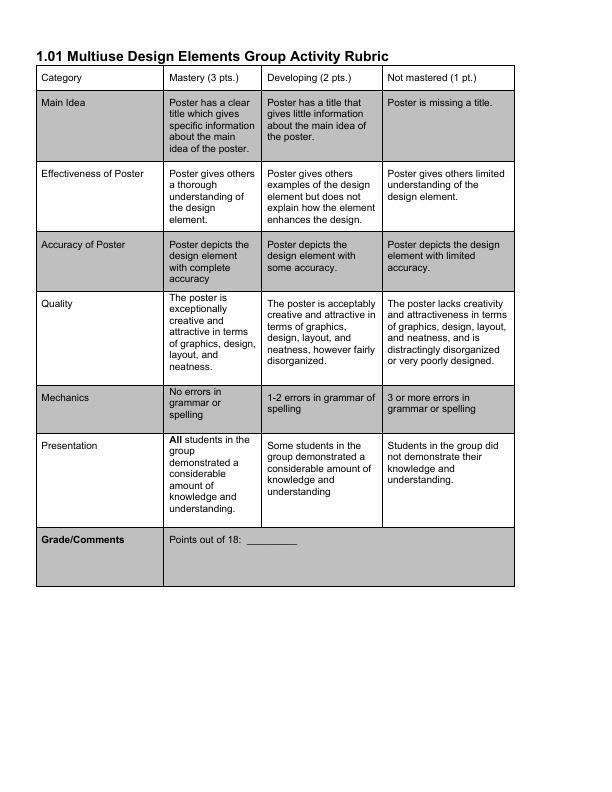table: (33, 62, 522, 592)
text: (36, 49, 390, 62)
